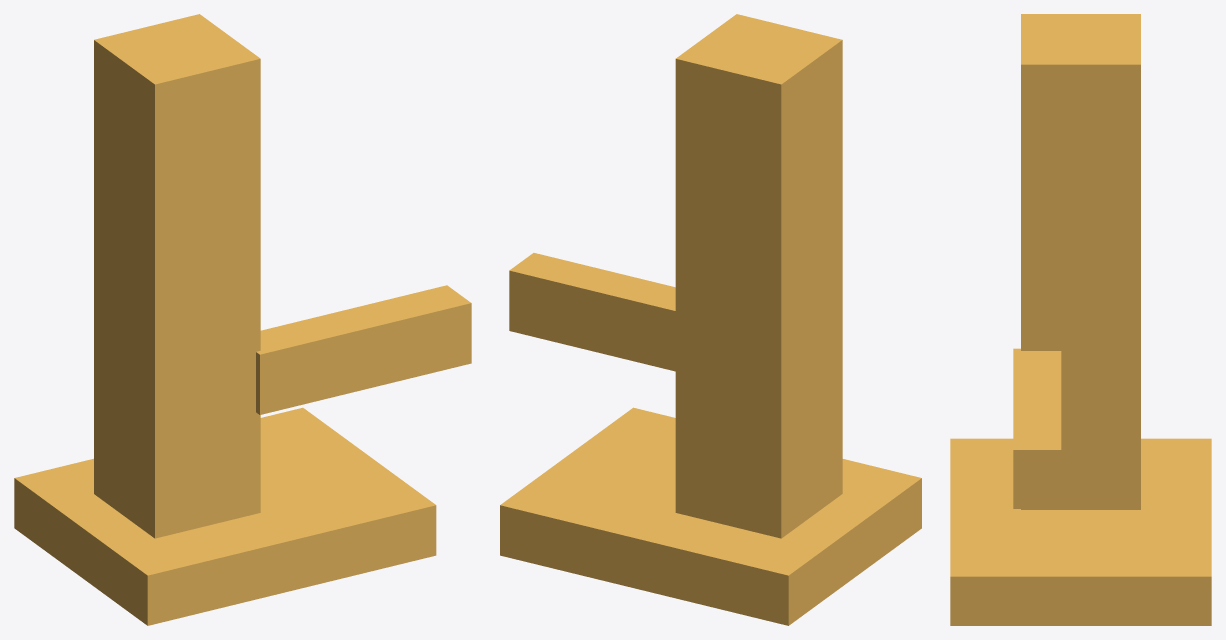
The model's file is vaca_muerta_rig.glb.
The picture shows the model from 3 angles, left to right: view 1: azimuth 30°, elevation 25°; view 2: azimuth 150°, elevation 25°; view 3: azimuth 270°, elevation 25°; orthographic projection.
Visible parts, largest first — view 1: vaca_muerta_rig; view 2: vaca_muerta_rig; view 3: vaca_muerta_rig.
Boxes of the visible parts, box(x1,y1,x2,y2) form: vaca_muerta_rig: box(14, 14, 471, 625); vaca_muerta_rig: box(500, 14, 921, 625); vaca_muerta_rig: box(950, 14, 1211, 625).
Size of the model in its own units: 1.85 by 2.5 by 1.2.
